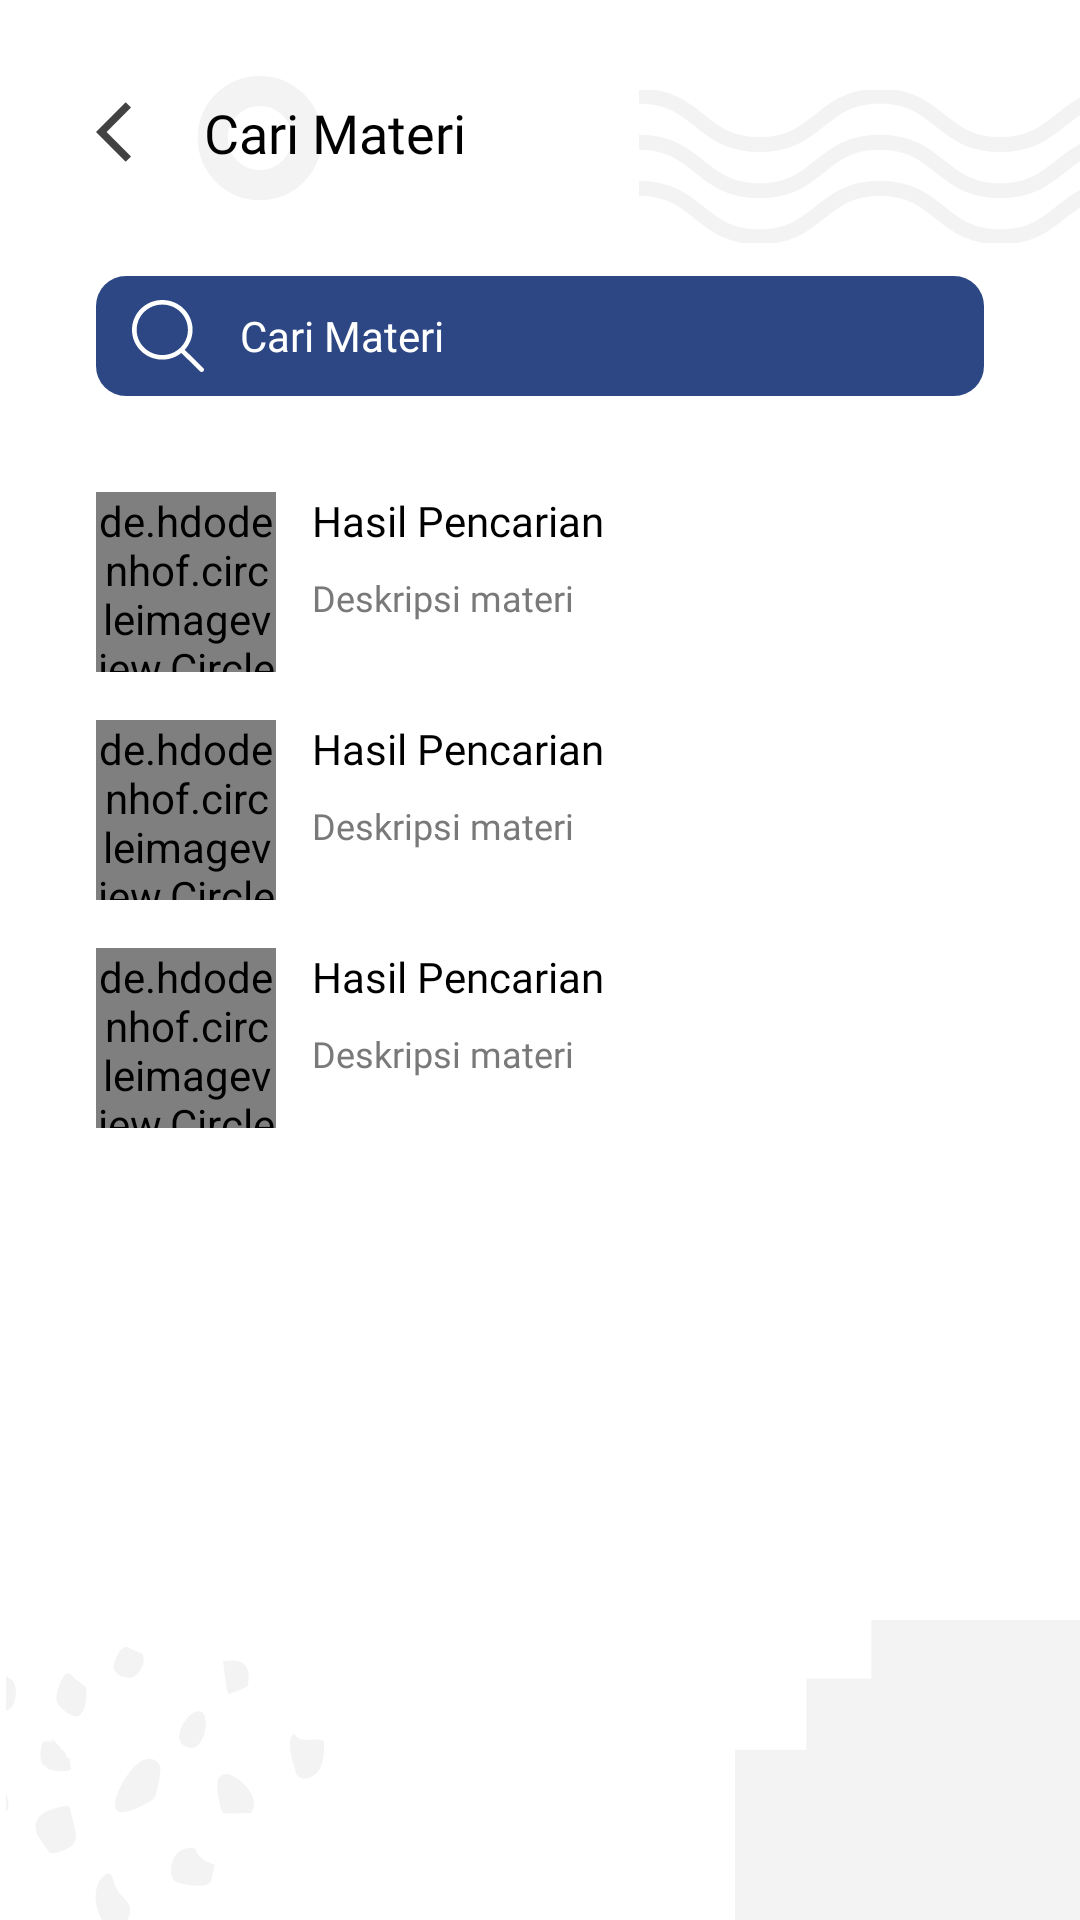

Icons on this 1080 x 1920 Android screen, each with the point to tap as (x=x, y=y):
back: (x=113, y=132)
search: (x=168, y=336)
